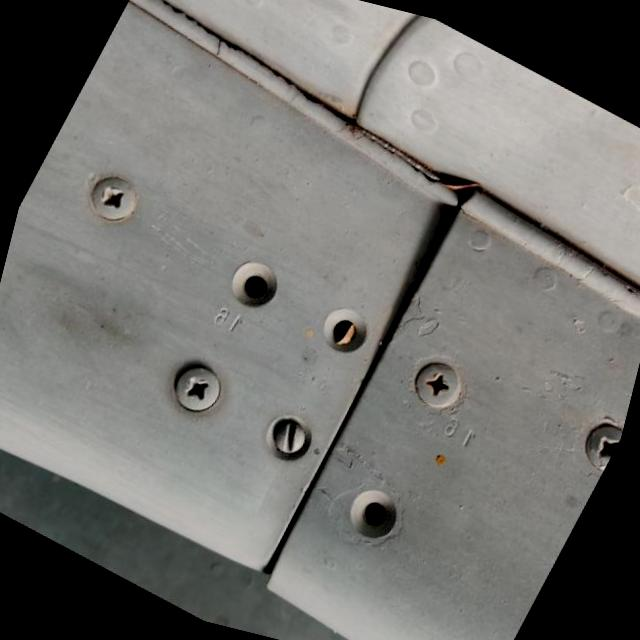Missing Fastener: (322, 468, 411, 558), (214, 251, 282, 318)
